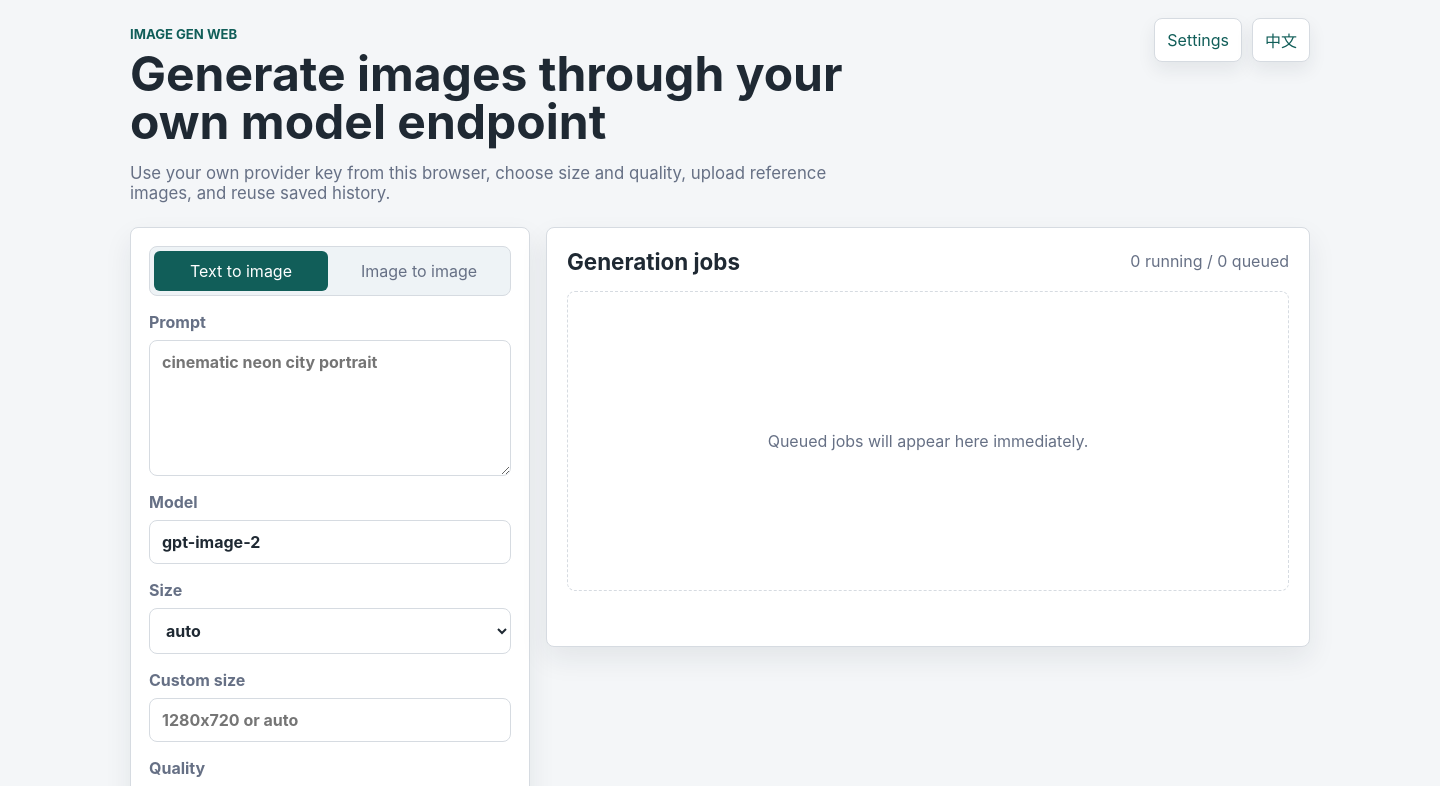
Test: App › renders a download action for generated images
The width and height of the screenshot is (1440, 786).
Expected: the field showing "gpt-image-2" is shown, left=149, top=520, right=511, bottom=564
Step 1. Type "a neon fox" into the text box labelled "Prompt" → (330, 408), box left=149, top=340, right=511, bottom=476
(page scrolled)
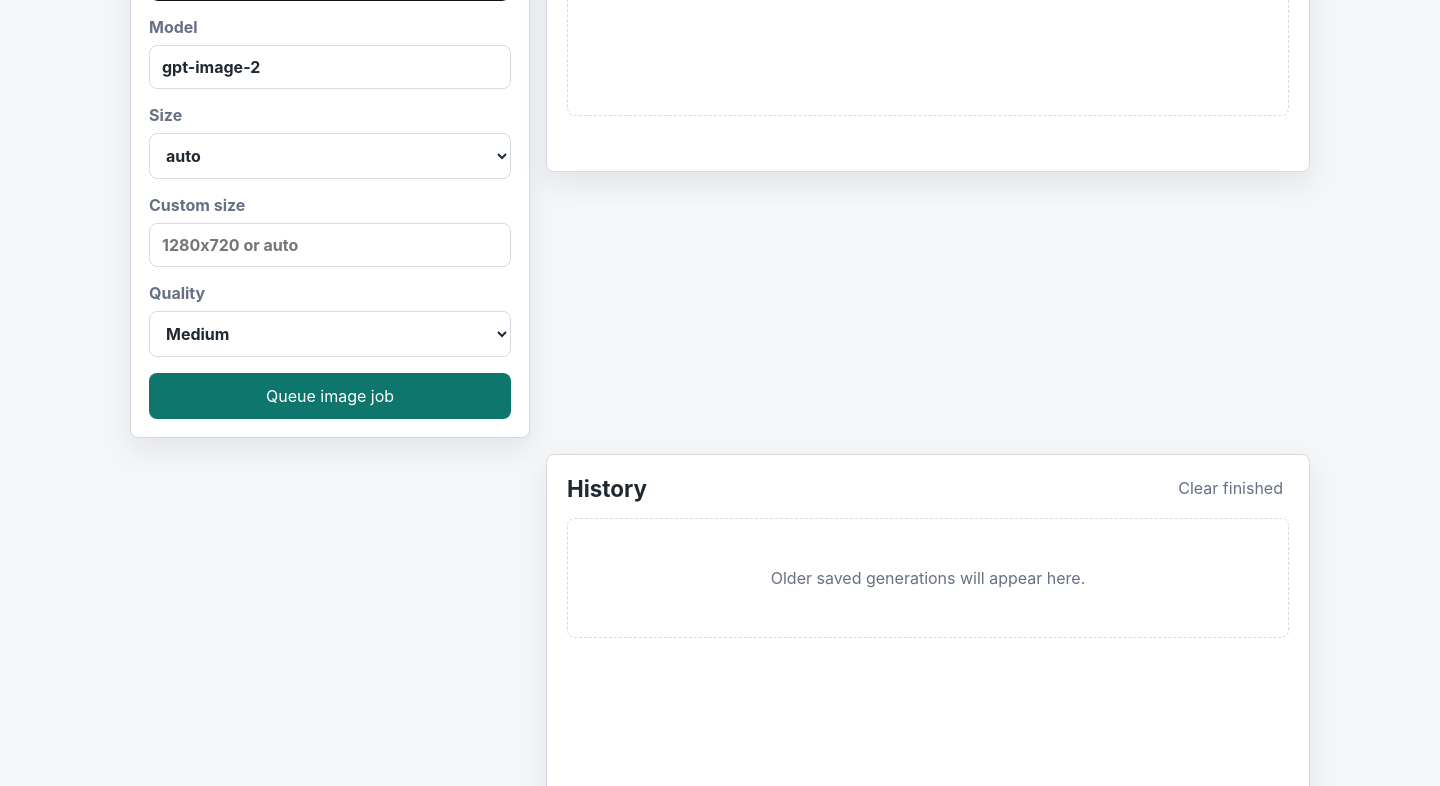
Step 2. Click the button "Queue image job" → (330, 396), box left=149, top=373, right=511, bottom=419
(page scrolled)
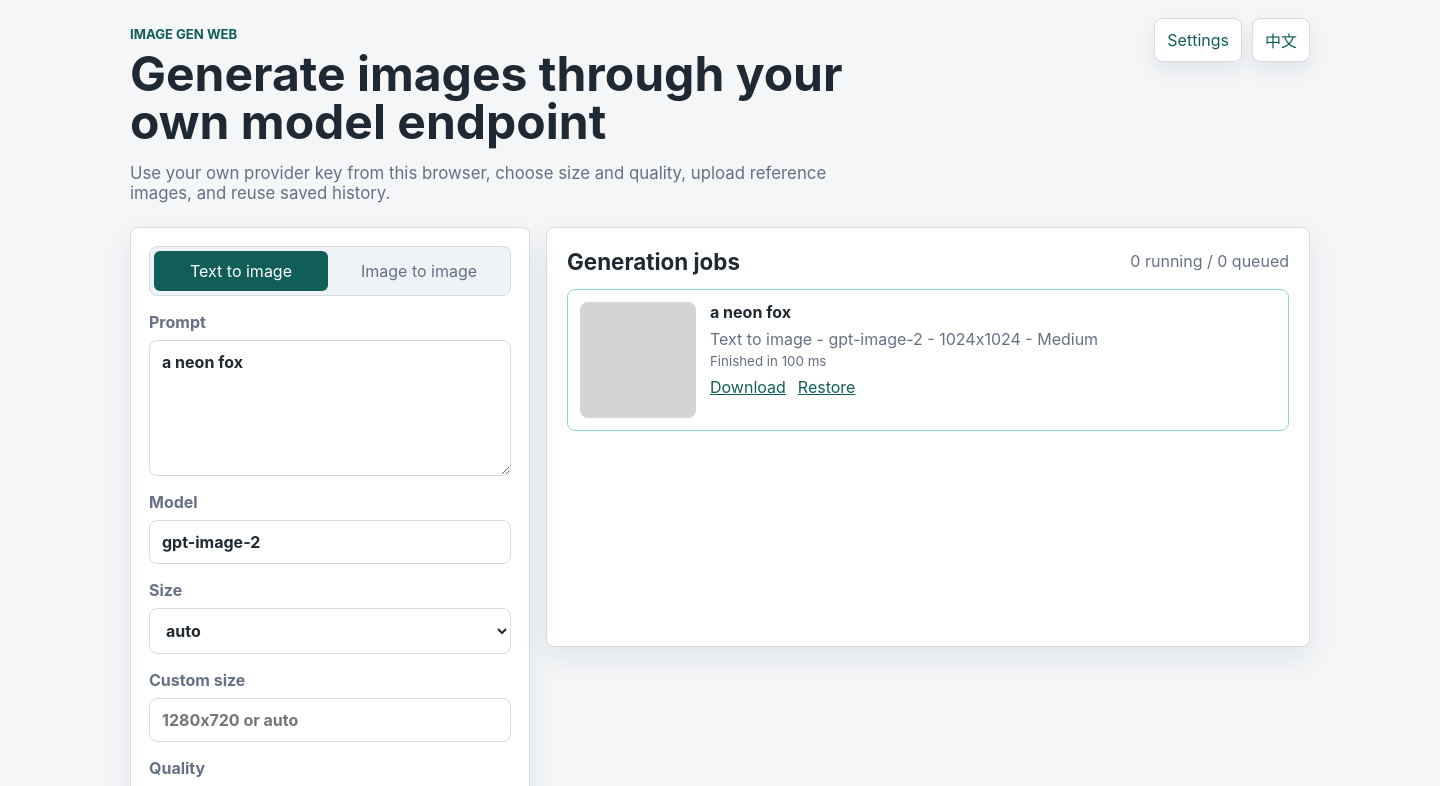
Expected: the link "Download" is shown, left=710, top=377, right=786, bottom=397
